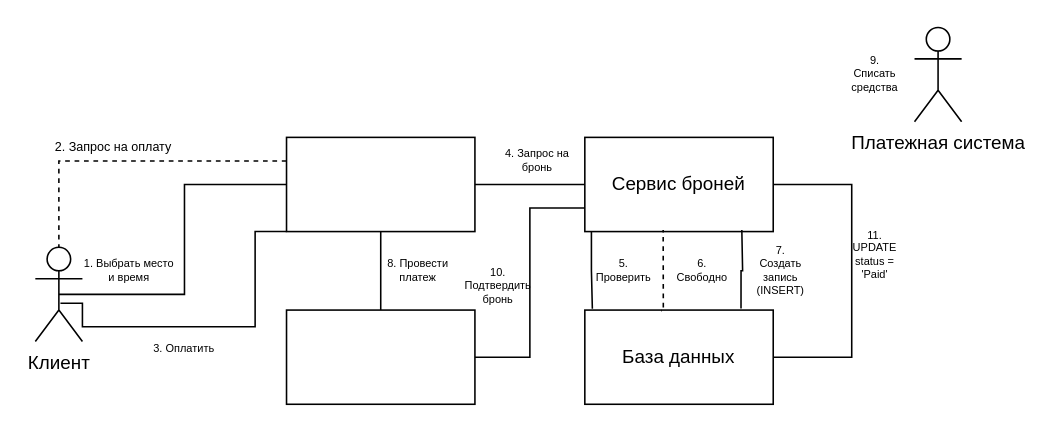
This 1052x432 diagram has some shape labels left out. Here are the shapes that lost their labels. From the top down, the centre of each, then its label:
At (380,184): "Веб-интерфейс".
At (380,356): "Сервис платежей".
